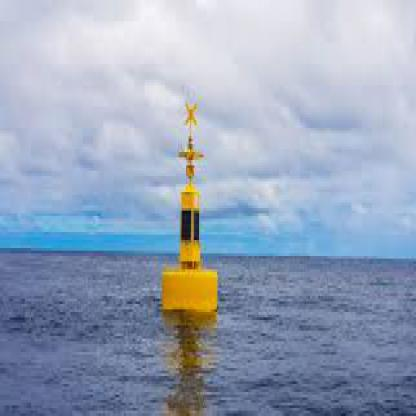buoy: (154, 88, 222, 328)
